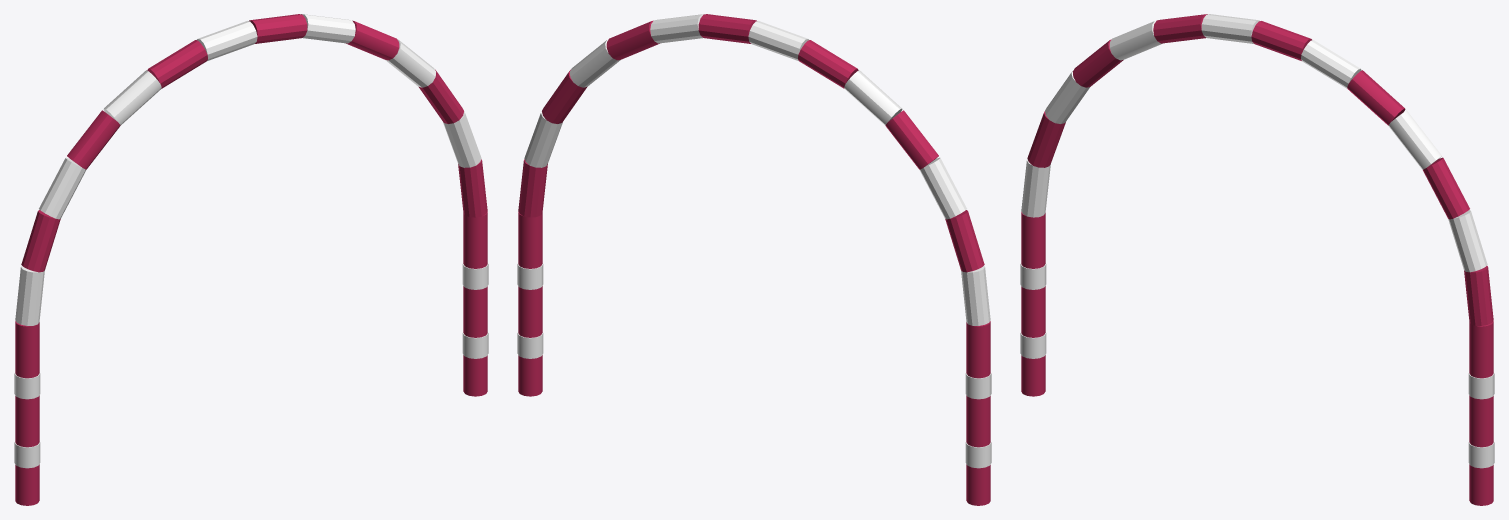
Rendered from candy_cane_arch.glb.
The picture shows the model from 3 angles, left to right: view 1: azimuth 30°, elevation 25°; view 2: azimuth 150°, elevation 25°; view 3: azimuth 330°, elevation 25°; orthographic projection.
Visible parts, largest first — view 1: Pole, Pole.001, Arch11, Arch9, Arch10, Arch12, Arch8, Arch13, Arch7, Arch6, Arch0, Arch5 (+8 smaller); view 2: Pole, Pole.001, Arch11, Arch9, Arch10, Arch12, Arch8, Arch13, Arch7, Arch6, Arch0, Arch5 (+8 smaller); view 3: Pole.001, Pole, Arch2, Arch4, Arch3, Arch1, Arch5, Arch0, Arch6, Arch7, Arch13, Arch8 (+8 smaller).
Part boxes in pixels (x1,y1,x2,y2): Pole: (15,321,39,505); Pole.001: (463,212,487,396); Arch11: (39,157,85,219); Arch9: (103,70,161,125); Arch10: (67,110,120,169); Arch12: (21,210,60,272); Arch8: (147,40,207,88); Arch13: (15,266,44,325); Arch7: (197,21,257,60); Arch6: (249,14,307,43); Arch0: (458,159,487,217); Arch5: (301,14,355,43); Pole: (966,321,990,505); Pole.001: (518,212,542,396); Arch11: (920,157,966,219); Arch9: (844,70,902,125); Arch10: (885,110,938,169); Arch12: (945,210,984,272); Arch8: (798,40,858,88); Arch13: (961,266,990,325); Arch7: (748,21,808,60); Arch6: (698,14,756,43); Arch0: (518,159,547,217); Arch5: (650,14,704,43); Pole.001: (1469,321,1493,505); Pole: (1021,212,1045,396); Arch2: (1423,157,1469,219); Arch4: (1347,70,1405,125); Arch3: (1388,110,1441,169); Arch1: (1448,210,1487,272); Arch5: (1301,40,1361,88); Arch0: (1464,266,1493,325); Arch6: (1251,21,1311,60); Arch7: (1201,14,1259,43); Arch13: (1021,159,1050,217); Arch8: (1153,14,1207,43).
Size of the model in its own units: 7.14 by 6.16 by 0.34.
